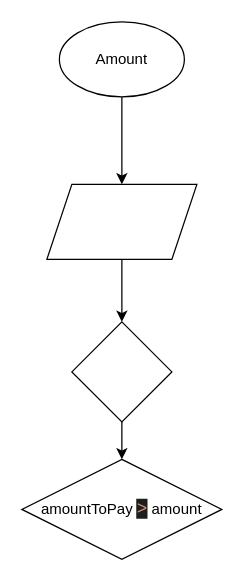
The diagram is 244 pixels wide and 581 high, and some of its shapes have lost their labels. Each missing label, with the centre of its shape:
"amountToPay, currentRest, type" goes at [121,221].
"currentRest" goes at [121,371].
